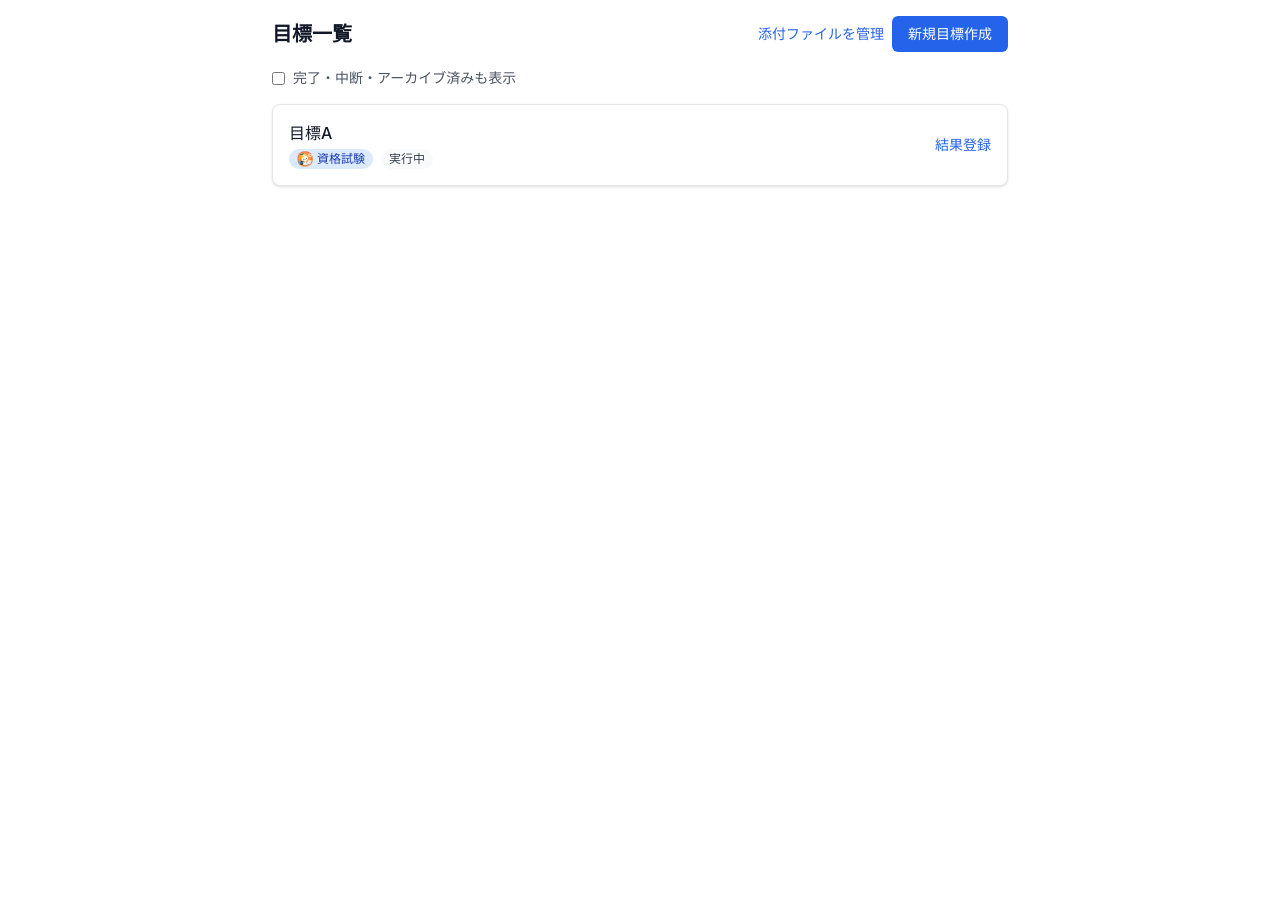
Scenario: GoalsListPage の新規作成（種別選択） › opens the work quick-create form
Click the button "新規目標作成": (950, 34) [892,16,1008,52]
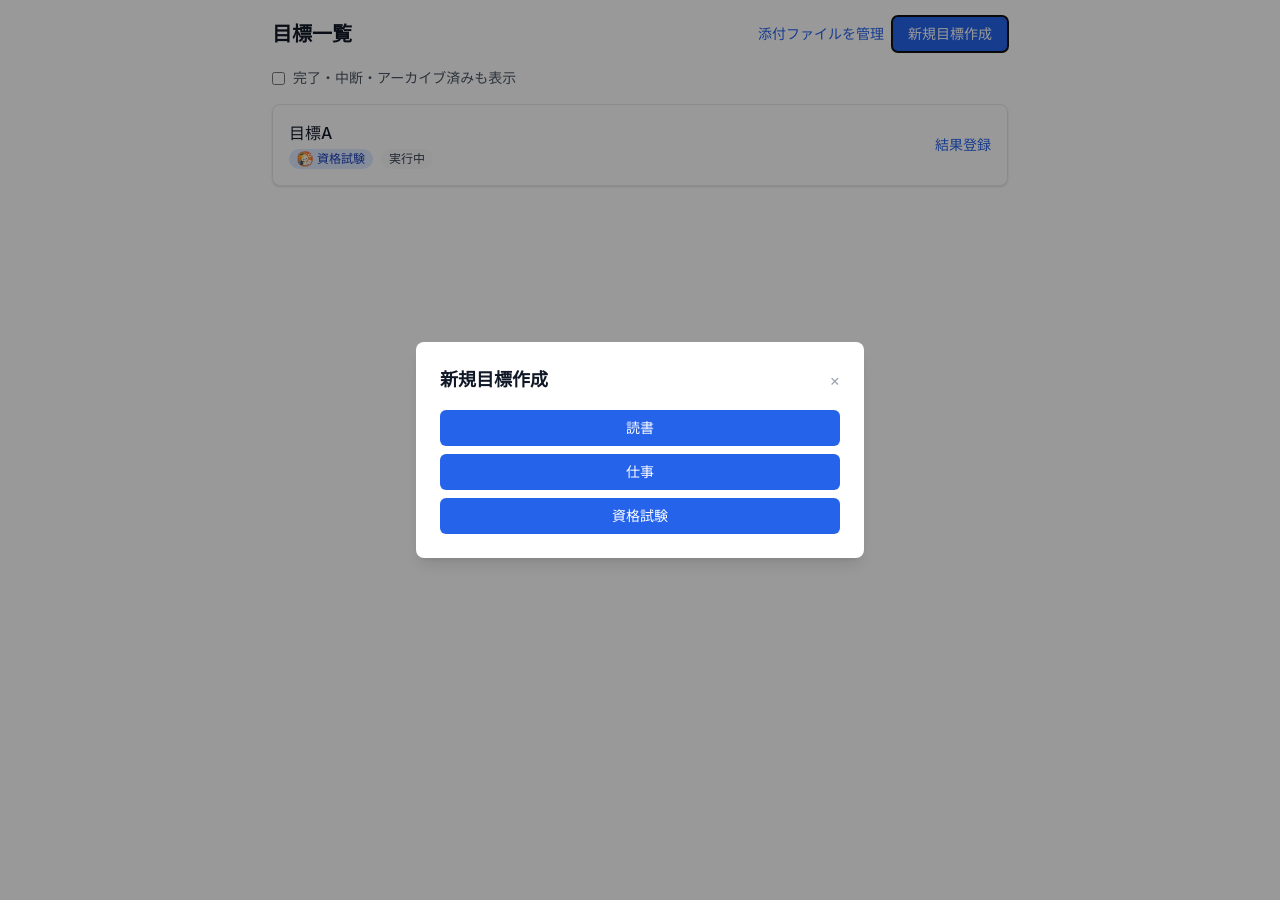
Click the button "仕事": (640, 472) [440,454,840,490]
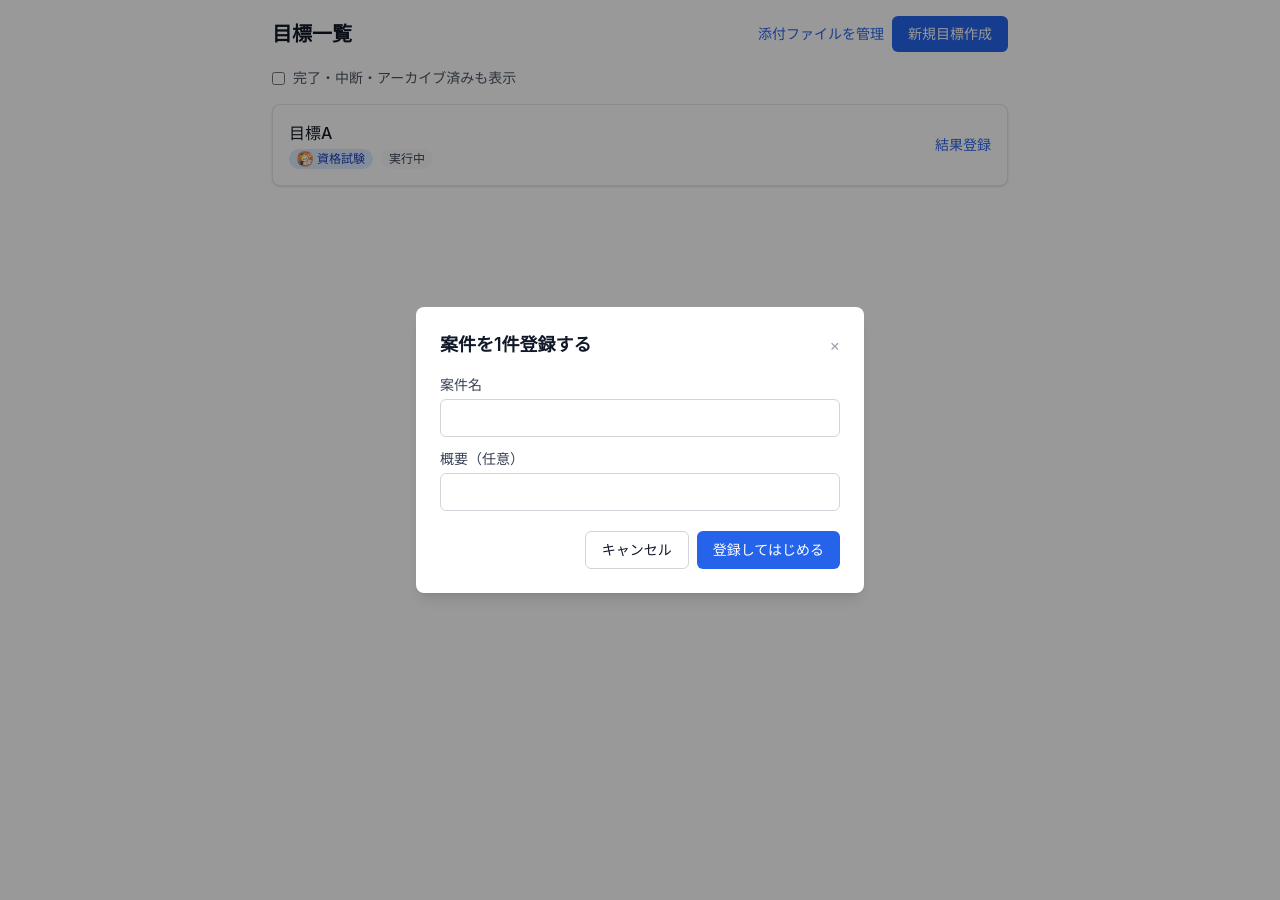
Check: the field labelled "案件名" is shown, box [440,399,840,437]
